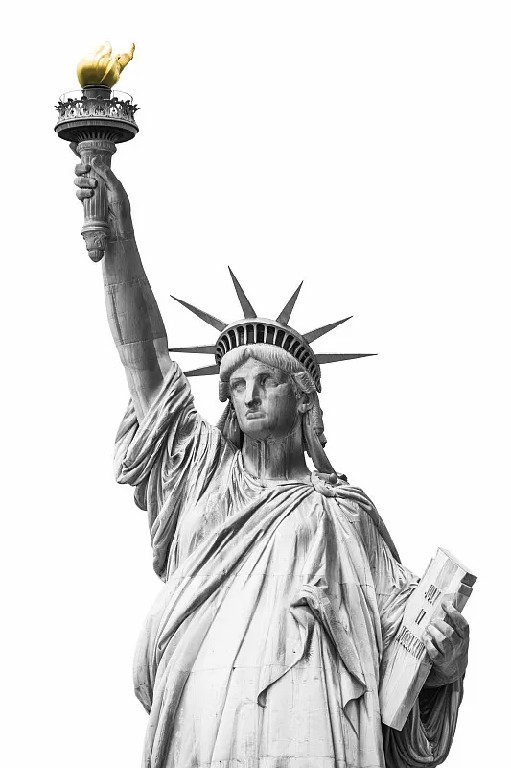SL: (55, 39, 478, 768)
